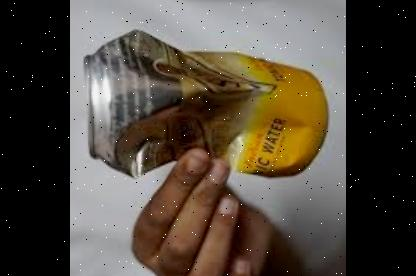Can: (82, 26, 334, 178)
